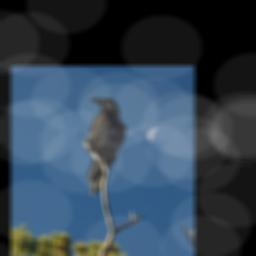Crow: (64, 92, 134, 203)
